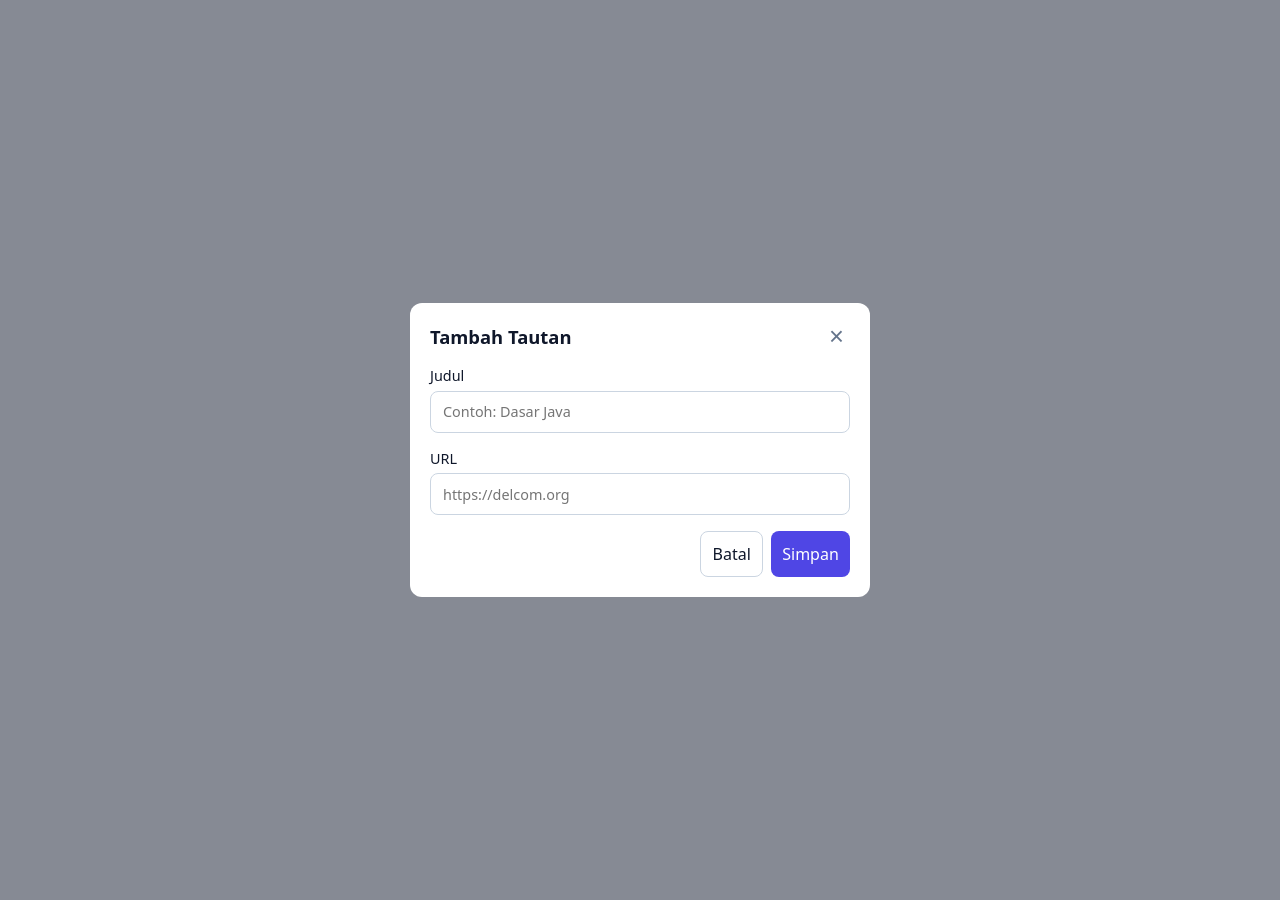
Test: ItemModal: tambah › menolak judul kosong dan URL tidak valid
Click the button "Simpan": (810, 554) [771, 531, 850, 577]
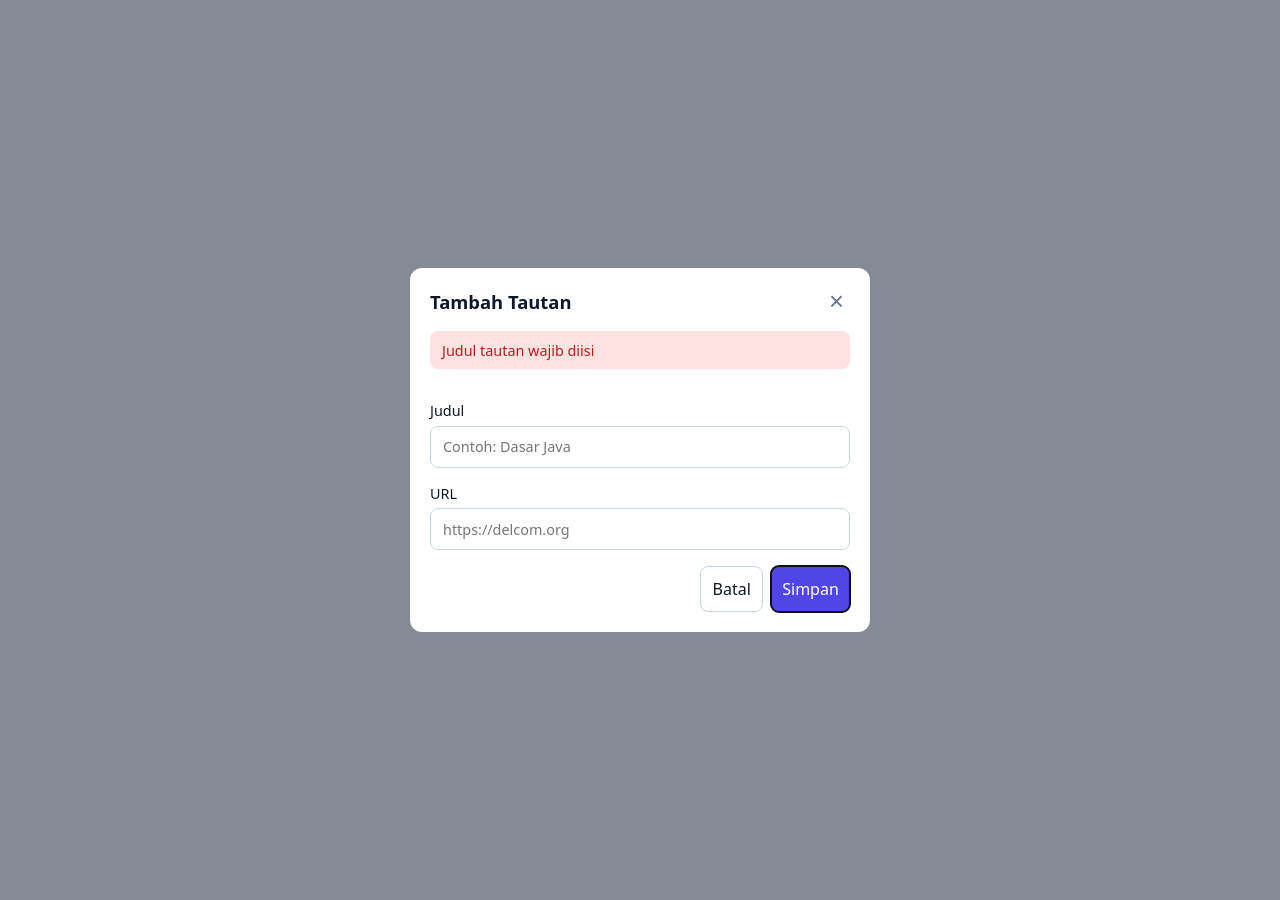
expect the text "Judul tautan wajib diisi" is shown: met, box [430, 331, 850, 369]
In the field labelled "Judul": (640, 447) [430, 426, 850, 468], type "Java"
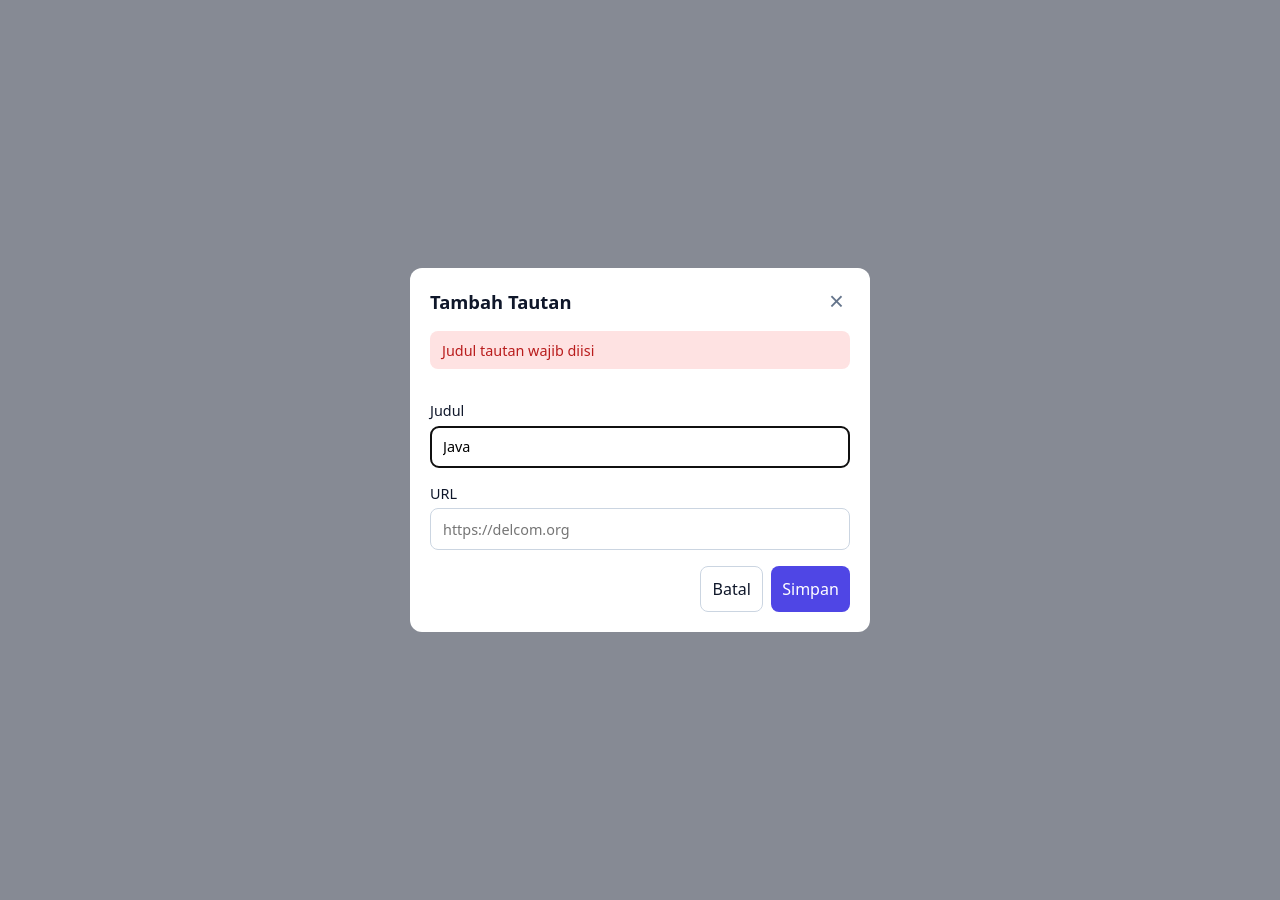
In the field labelled "URL": (640, 529) [430, 508, 850, 550], type "bukan url"
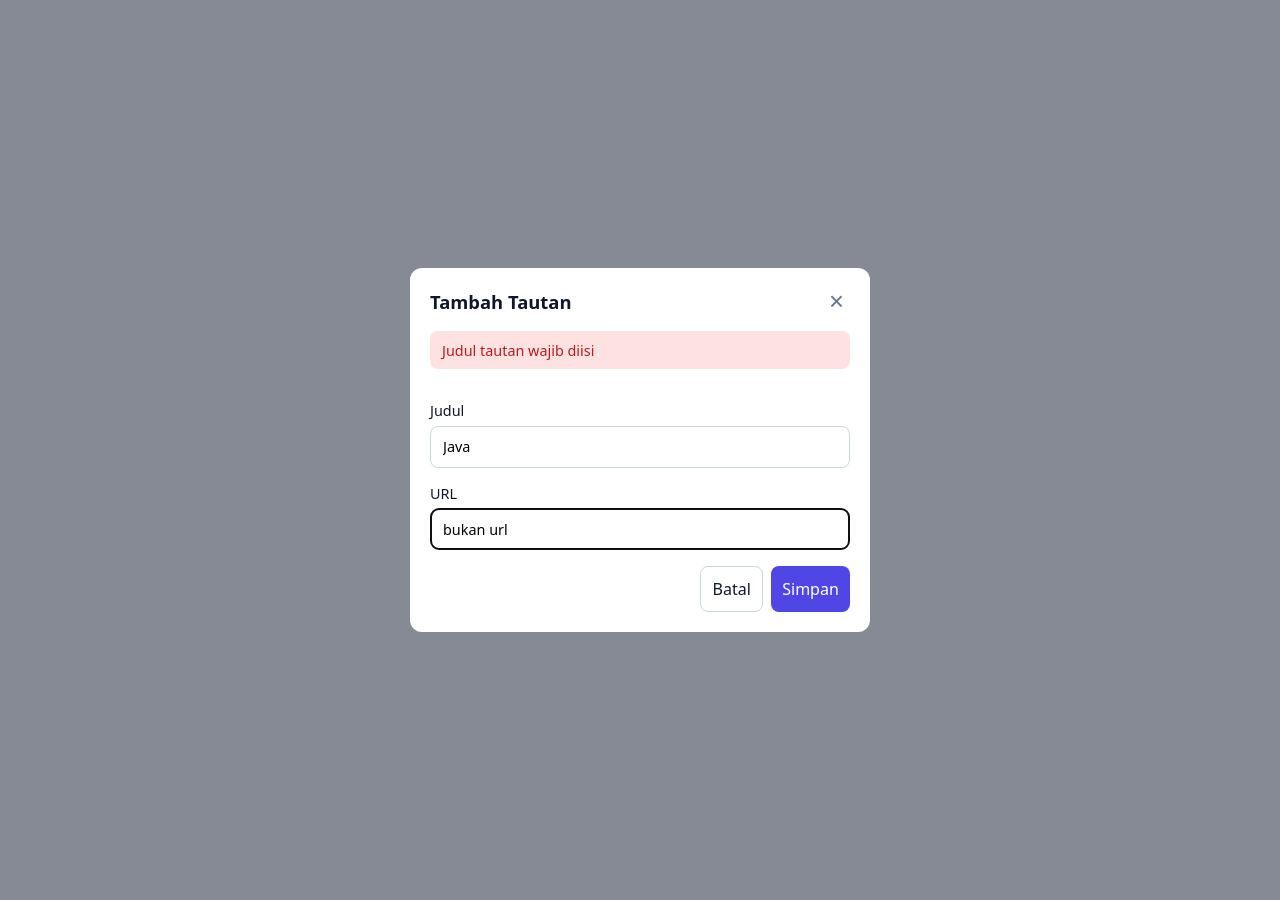
Click the button "Simpan": (810, 589) [771, 566, 850, 612]
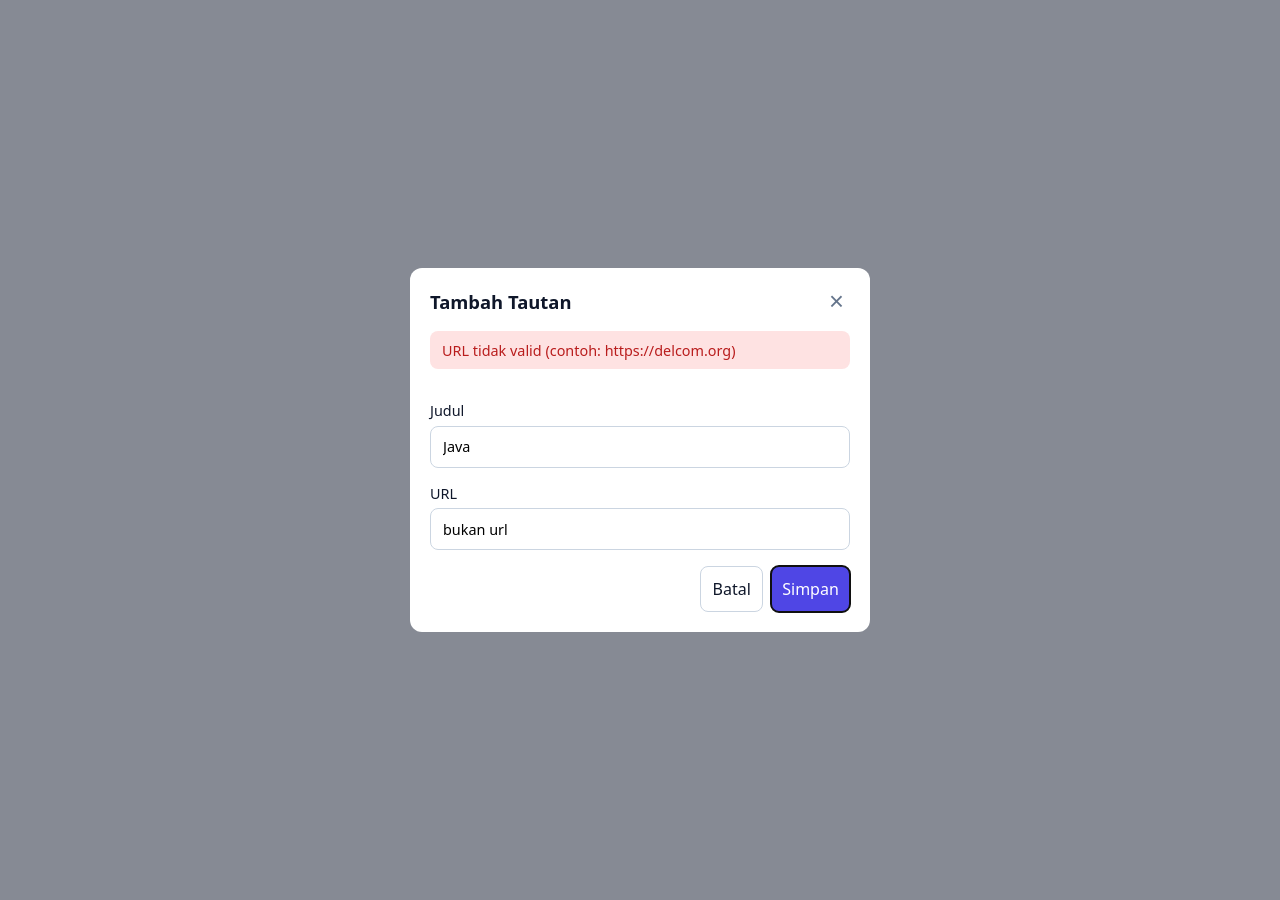
expect the text "URL tidak valid (contoh: https://delcom.org)" is shown: met, box [430, 331, 850, 369]
